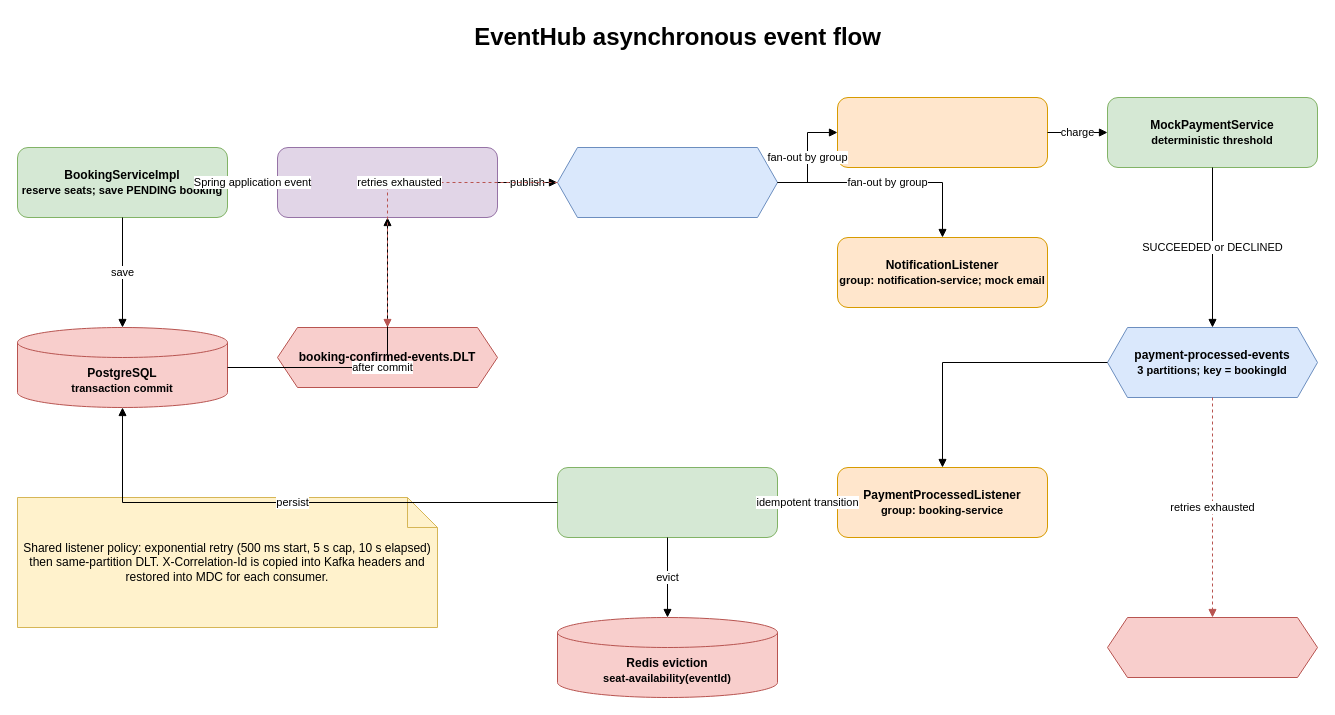
This 1335x715 diagram has some shape labels left out. Here are the shapes that lost their labels. From the top down, the centre of each, then its label:
At [942,132]: "PaymentConsumer group: payment-service".
At [387,182]: "BookingConfirmedEventPublisher transaction phase: AFTER_COMMIT".
At [667,182]: "booking-confirmed-events 3 partitions; key = bookingId".
At [667,502]: "Booking state machine CONFIRMED / FAILED; BOOKED / AVAILABLE".
At [1212,647]: "payment-processed-events.DLT".
